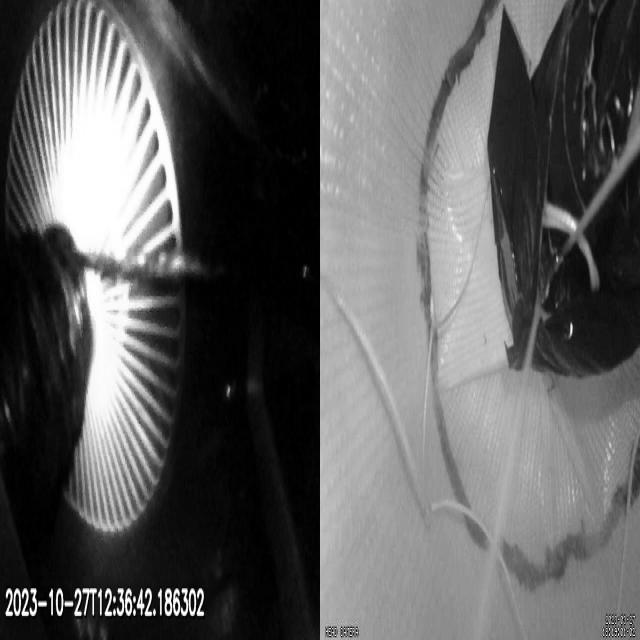red-circle: (416, 0, 640, 592)
